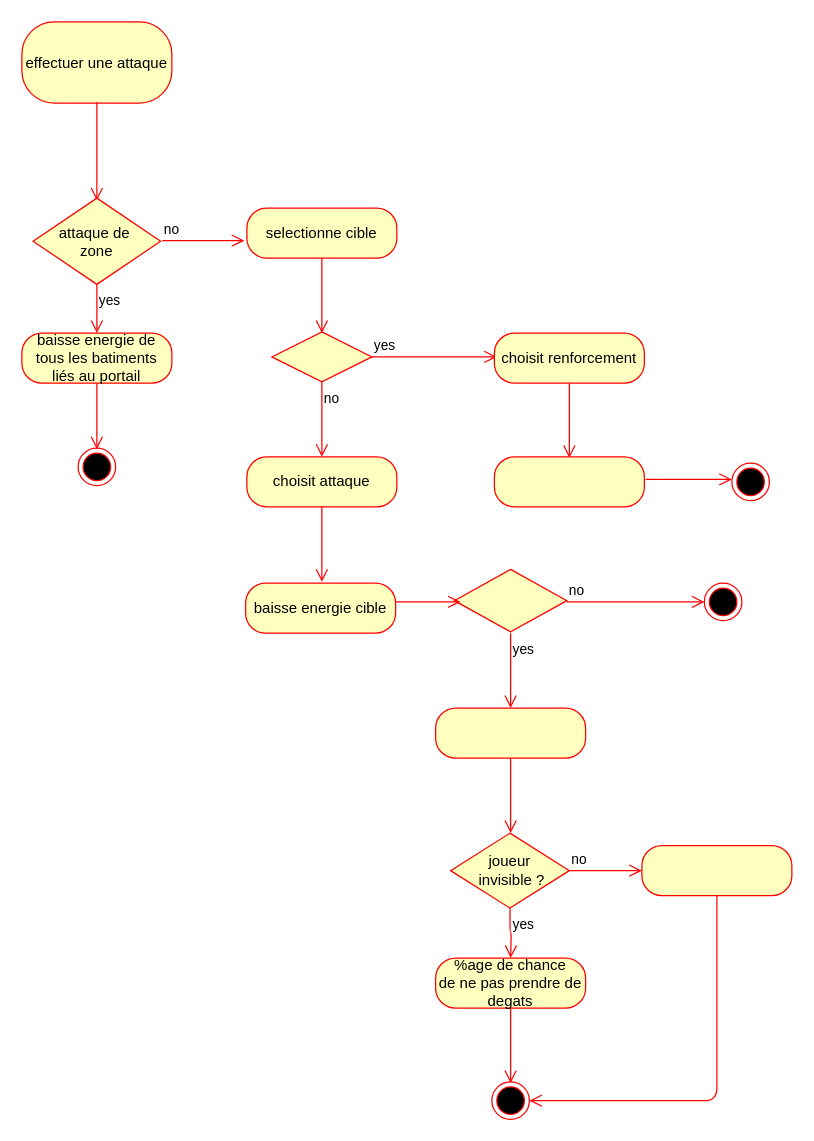
This 814x1141 diagram has some shape labels left out. Each missing label, with the centre of its shape:
"applique effets" goes at point 568,481.
"cible alliée ?" goes at point 321,356.
"joueur prend degats" goes at point 716,870.
"tourelle attaque joueur" goes at point 510,732.
"tourelle equipée ?" goes at point 510,600.
